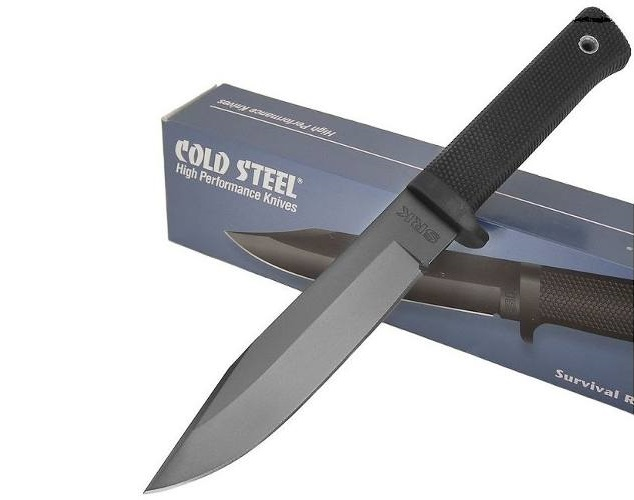knife: (137, 174, 463, 499)
